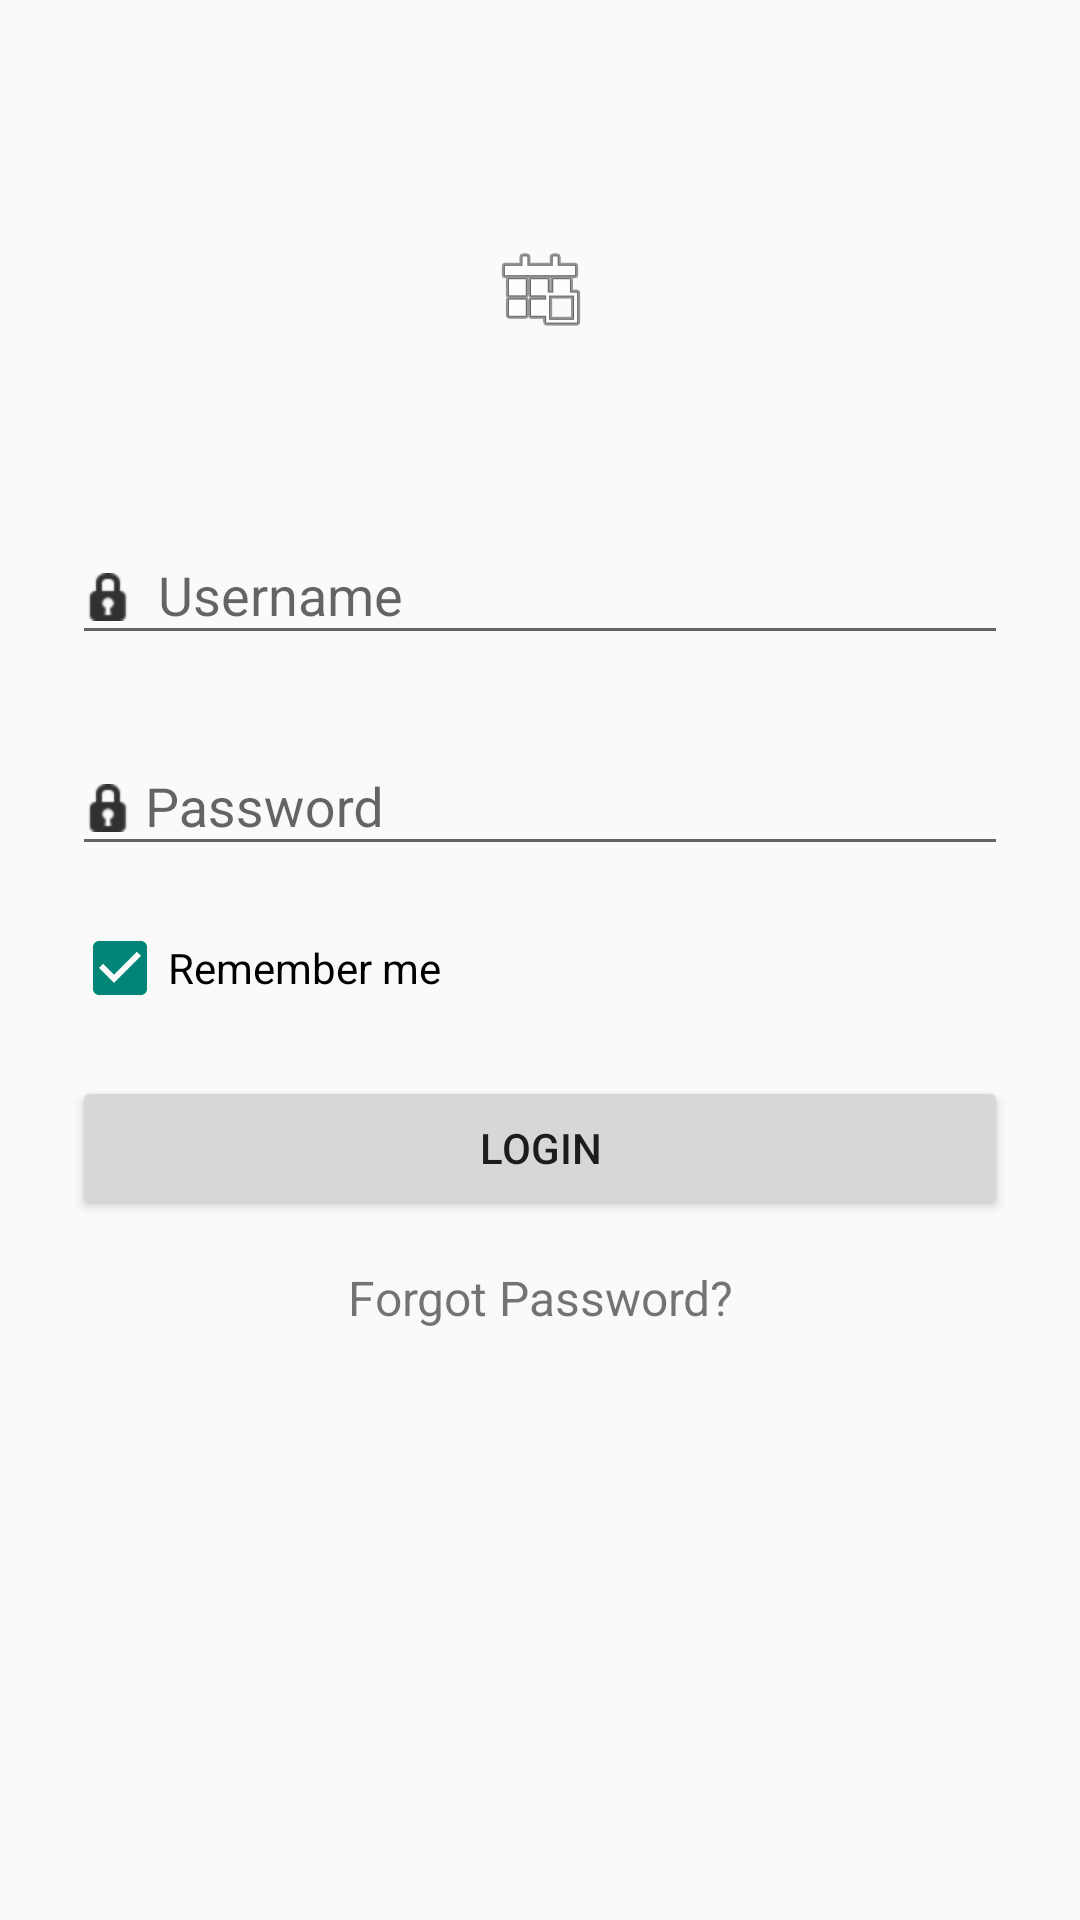

Icons on this 1080*1920 Android screen, each with the point to tap as point (x, y):
today: point (541, 289)
